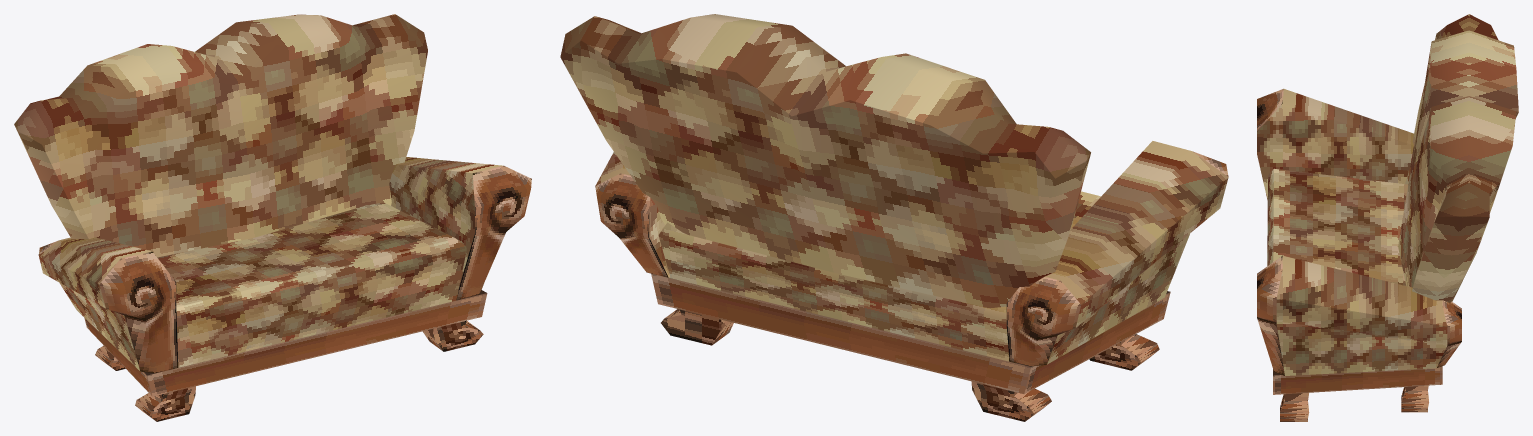
Rendered from isu35-3.glb.
The picture shows the model from 3 angles, left to right: view 1: azimuth 30°, elevation 25°; view 2: azimuth 150°, elevation 25°; view 3: azimuth 270°, elevation 25°; orthographic projection. The views are drawn at different scales.
Visible parts, largest first — view 1: isu35_3; view 2: isu35_3; view 3: isu35_3.
Boxes of the visible parts, x1,y1,x2,y2 form: isu35_3: (14, 14, 531, 421); isu35_3: (560, 14, 1228, 421); isu35_3: (1257, 14, 1518, 421).
Bounding box in the file's own units: 401 × 246 × 216.
3 materials, 3 textured.
